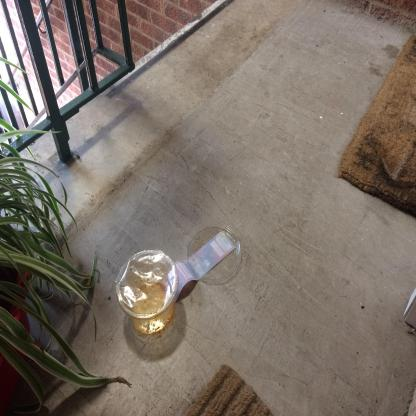plastik: (115, 224, 242, 336)
